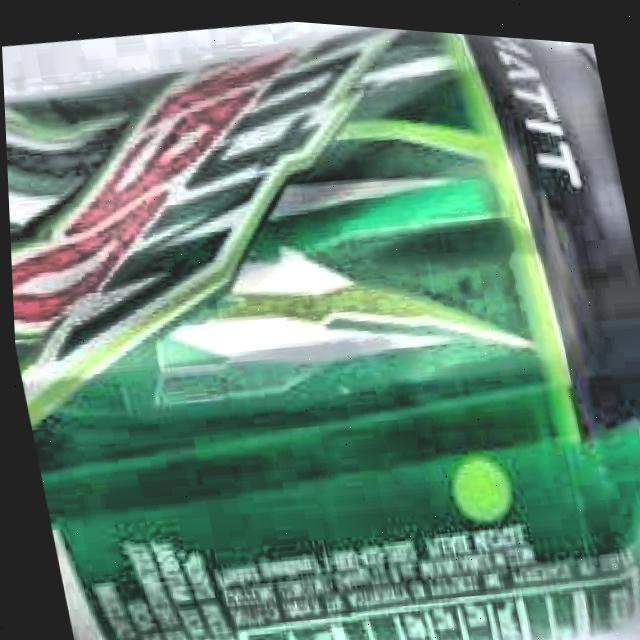metal: (4, 21, 640, 640)
